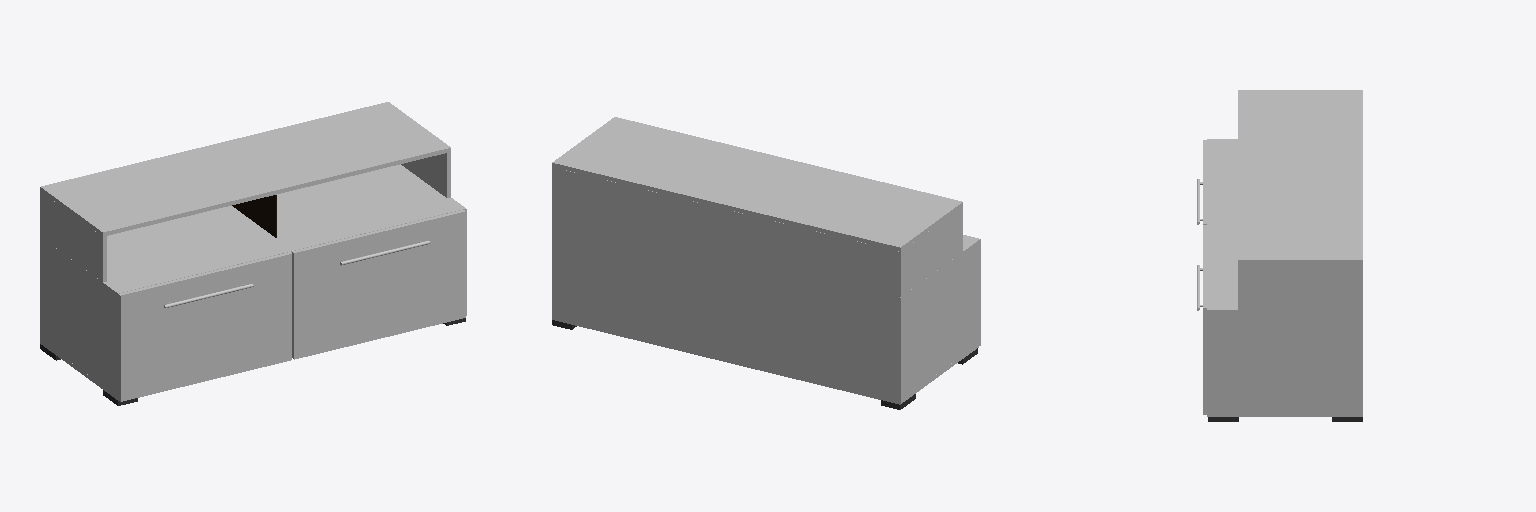
File: Николь.obj
3 renders of one model, left to right at view 1: azimuth 30°, elevation 25°; view 2: azimuth 150°, elevation 25°; view 3: azimuth 270°, elevation 25°, orthographic.
Visible parts, largest first — view 1: Cube.006_Cube.007, Cube.009_Cube.013, Cube_Cube.001, Cube.005_Cube.006, Cube.013_Cube.016, Cylinder.001_Cylinder.004; view 2: Cube_Cube.001, Cube.009_Cube.013, Cube.005_Cube.006; view 3: Cube.009_Cube.013, Cube.005_Cube.006, Cube_Cube.001, Cube.006_Cube.007.
Boxes of the visible parts, box(x1,y1,x2,y2) form: Cube.006_Cube.007: box(118, 210, 465, 401); Cube.009_Cube.013: box(40, 102, 450, 281); Cube_Cube.001: box(40, 164, 466, 340); Cube.005_Cube.006: box(40, 212, 466, 399); Cube.013_Cube.016: box(232, 195, 276, 237); Cylinder.001_Cylinder.004: box(164, 241, 429, 307); Cube_Cube.001: box(552, 167, 978, 404); Cube.009_Cube.013: box(552, 117, 962, 296); Cube.005_Cube.006: box(552, 244, 978, 404); Cube.009_Cube.013: box(1238, 90, 1362, 309); Cube.005_Cube.006: box(1207, 313, 1362, 416); Cube_Cube.001: box(1207, 139, 1362, 412); Cube.006_Cube.007: box(1203, 140, 1206, 414).
Bounding box in the file's own units: 2.37 × 1.06 × 0.9844.